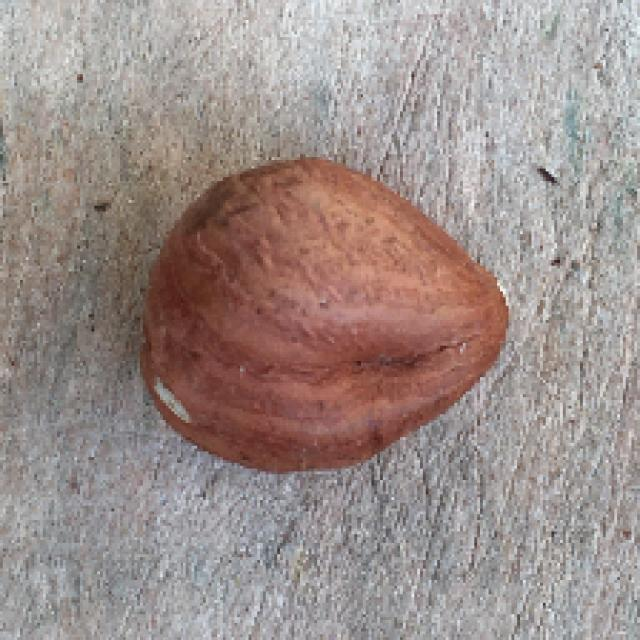hazelnut: (136, 137, 518, 476)
